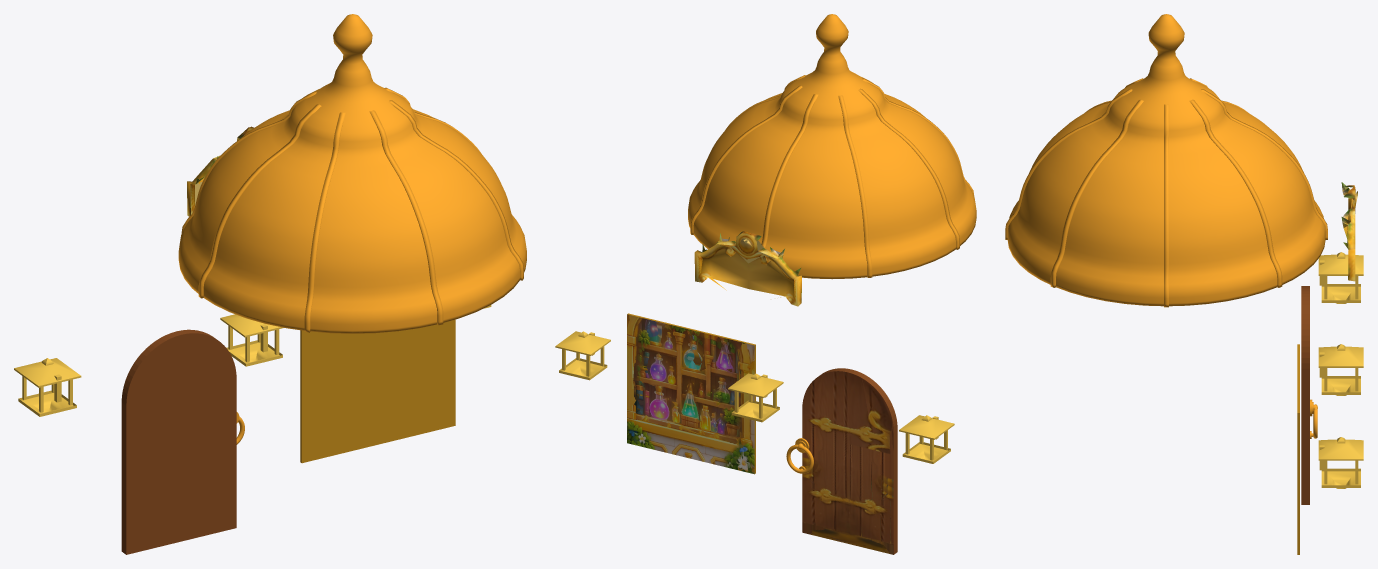
Rendered from HaloShop_Potion_deco.glb.
The picture shows the model from 3 angles, left to right: view 1: azimuth 30°, elevation 25°; view 2: azimuth 150°, elevation 25°; view 3: azimuth 270°, elevation 25°; orthographic projection. The views are drawn at different scales.
Visible parts, largest first — view 1: HaloShop_Potion_Dome, HaloShop_Potion_Leaf, HaloShop_Potion_Display.001, HaloShop_Potion_DomeRibs, HaloShop_Potion_Lantern2, HaloShop_Potion_Lantern1; view 2: HaloShop_Potion_Dome, HaloShop_Potion_Display.001, HaloShop_Potion_Leaf, HaloShop_Potion_Sign, HaloShop_Potion_DomeRibs, HaloShop_Potion_Lantern2, HaloShop_Potion_Lantern1, HaloShop_Potion_Lantern0; view 3: HaloShop_Potion_Dome, HaloShop_Potion_DomeRibs, HaloShop_Potion_Leaf, HaloShop_Potion_Lantern0, HaloShop_Potion_Lantern1, HaloShop_Potion_Lantern2, HaloShop_Potion_Sign, HaloShop_Potion_Display.001.
Part boxes in pixels (bbox=[...]): HaloShop_Potion_Dome: bbox=[178, 14, 526, 333]; HaloShop_Potion_Leaf: bbox=[121, 329, 236, 554]; HaloShop_Potion_Display.001: bbox=[300, 319, 455, 463]; HaloShop_Potion_DomeRibs: bbox=[181, 83, 523, 332]; HaloShop_Potion_Lantern2: bbox=[14, 358, 81, 416]; HaloShop_Potion_Lantern1: bbox=[220, 314, 283, 366]; HaloShop_Potion_Dome: bbox=[688, 14, 976, 279]; HaloShop_Potion_Display.001: bbox=[627, 313, 755, 474]; HaloShop_Potion_Leaf: bbox=[802, 368, 897, 554]; HaloShop_Potion_Sign: bbox=[694, 231, 801, 306]; HaloShop_Potion_DomeRibs: bbox=[690, 71, 974, 277]; HaloShop_Potion_Lantern2: bbox=[899, 415, 954, 463]; HaloShop_Potion_Lantern1: bbox=[728, 373, 783, 422]; HaloShop_Potion_Lantern0: bbox=[555, 331, 610, 380]; HaloShop_Potion_Dome: bbox=[1007, 14, 1325, 306]; HaloShop_Potion_DomeRibs: bbox=[1005, 78, 1327, 307]; HaloShop_Potion_Leaf: bbox=[1301, 286, 1309, 504]; HaloShop_Potion_Lantern0: bbox=[1318, 437, 1363, 488]; HaloShop_Potion_Lantern1: bbox=[1318, 344, 1363, 395]; HaloShop_Potion_Lantern2: bbox=[1318, 252, 1363, 303]; HaloShop_Potion_Sign: bbox=[1341, 182, 1357, 281]; HaloShop_Potion_Display.001: bbox=[1297, 344, 1299, 554].
Bounding box in the file's own units: 17.81 × 20.77 × 13.24.
7 materials, 3 textured.
